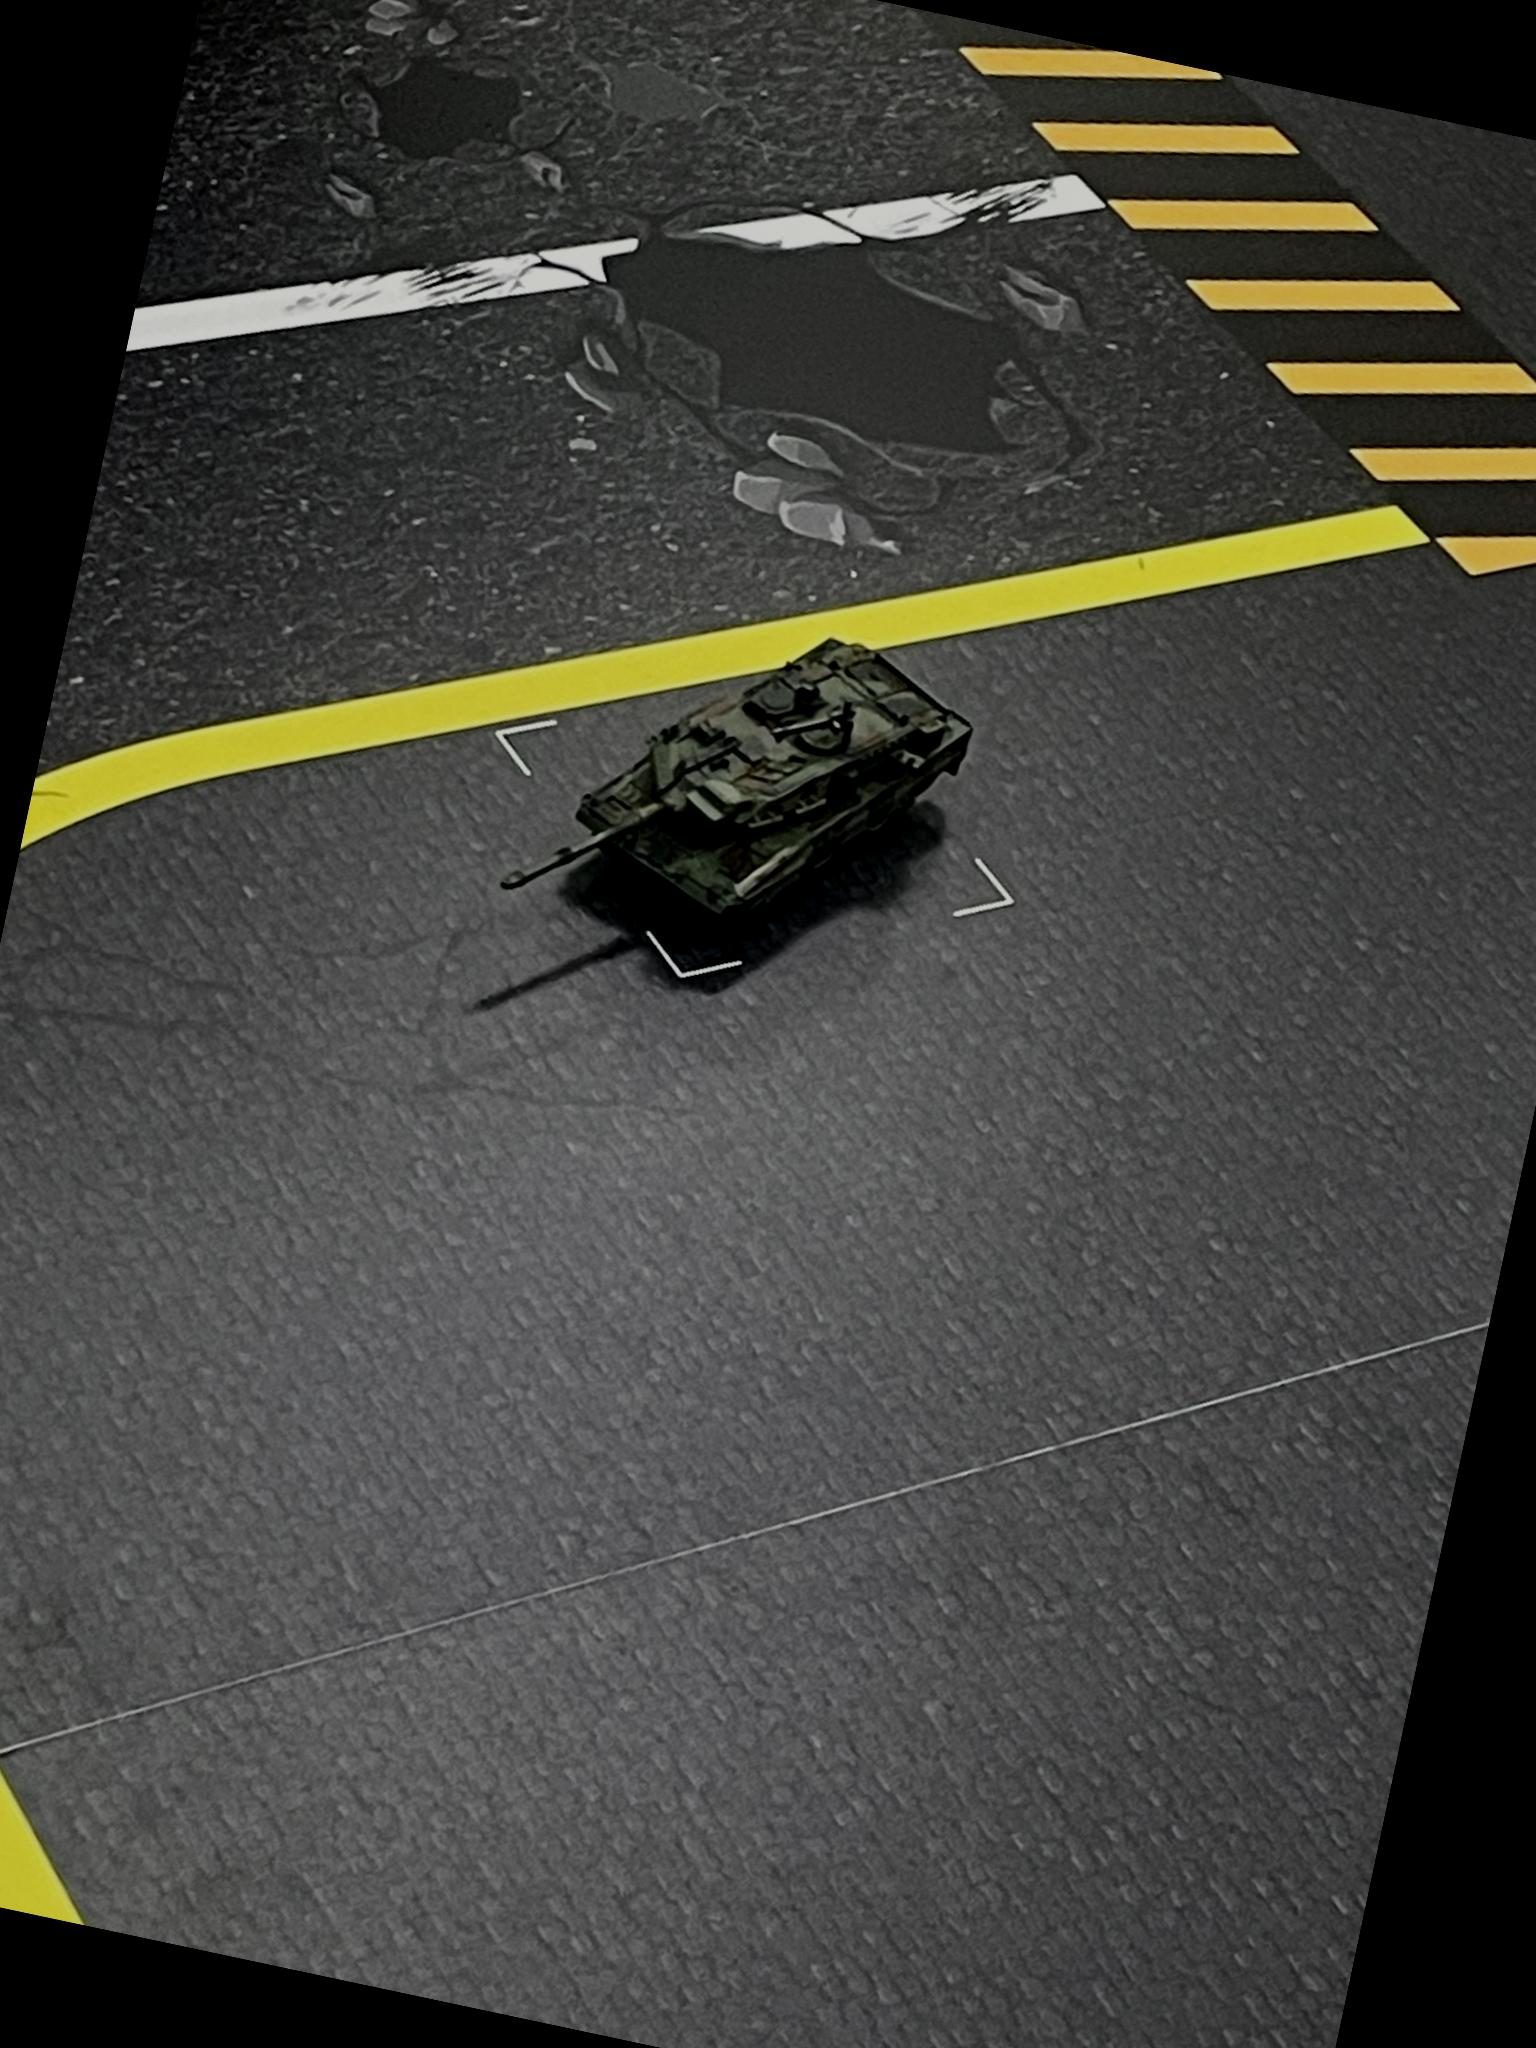Tank: (484, 560, 1013, 989)
